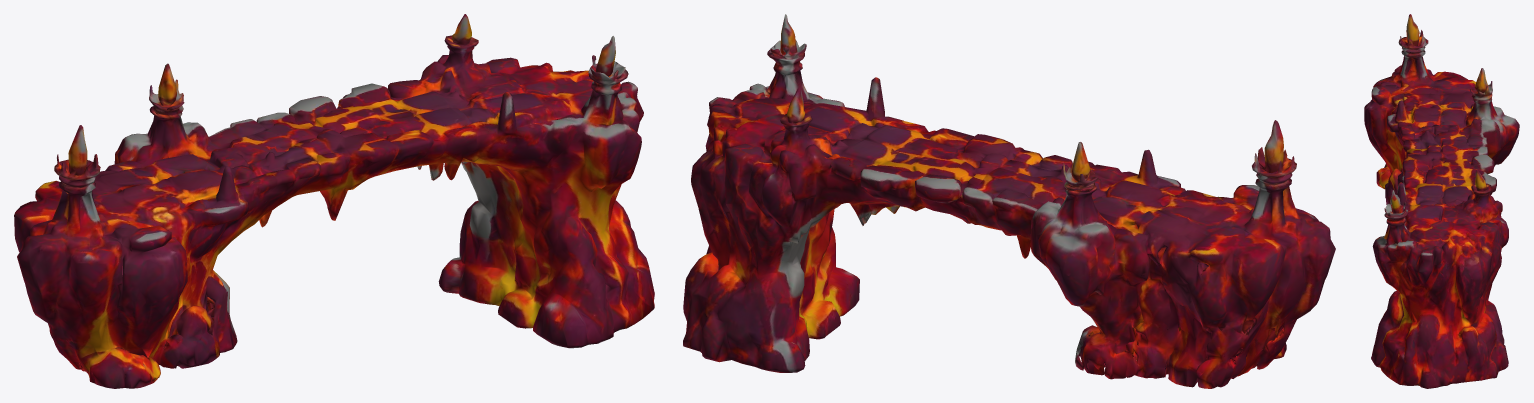
Rendered from puente.glb.
3 views of the same model, side by side, from view 1: azimuth 30°, elevation 25°; view 2: azimuth 150°, elevation 25°; view 3: azimuth 270°, elevation 25° (orthographic). The views are drawn at different scales.
Visible parts, largest first — view 1: tripo_node_f1693048-f676-4ca1-922c-6da24a7755ec; view 2: tripo_node_f1693048-f676-4ca1-922c-6da24a7755ec; view 3: tripo_node_f1693048-f676-4ca1-922c-6da24a7755ec.
Part boxes in pixels (x1,y1,x2,y2): tripo_node_f1693048-f676-4ca1-922c-6da24a7755ec: [14, 14, 654, 388]; tripo_node_f1693048-f676-4ca1-922c-6da24a7755ec: [683, 14, 1335, 388]; tripo_node_f1693048-f676-4ca1-922c-6da24a7755ec: [1364, 14, 1519, 388].
Size of the model in its own units: 1 by 0.4801 by 0.3369.
Materials: 1 (1 with a texture image).
